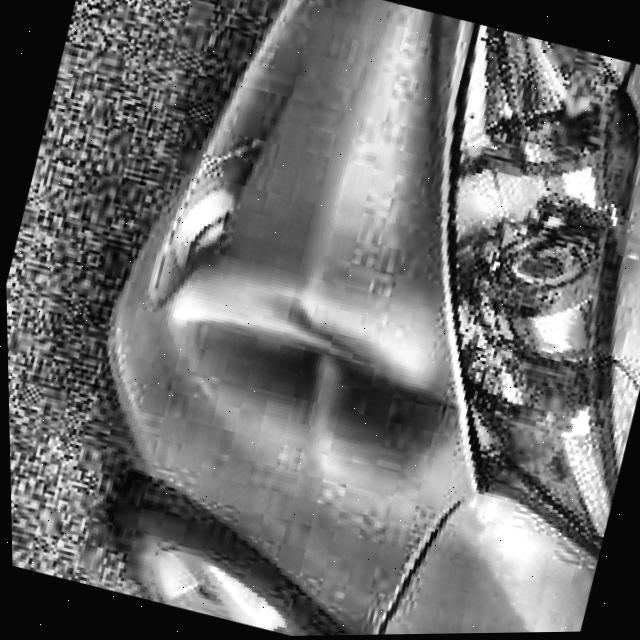bumper_dent: (136, 252, 475, 479)
